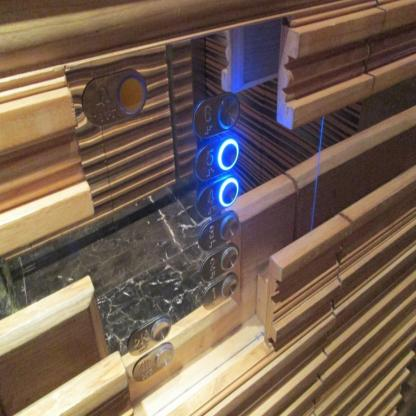1: (202, 271, 240, 310)
2: (200, 242, 240, 282)
3: (198, 208, 240, 250)
4: (196, 172, 240, 218)
5: (194, 134, 240, 180)
6: (192, 90, 240, 137)
alarm: (82, 65, 147, 126)
close: (126, 312, 172, 356)
open: (130, 339, 174, 384)
